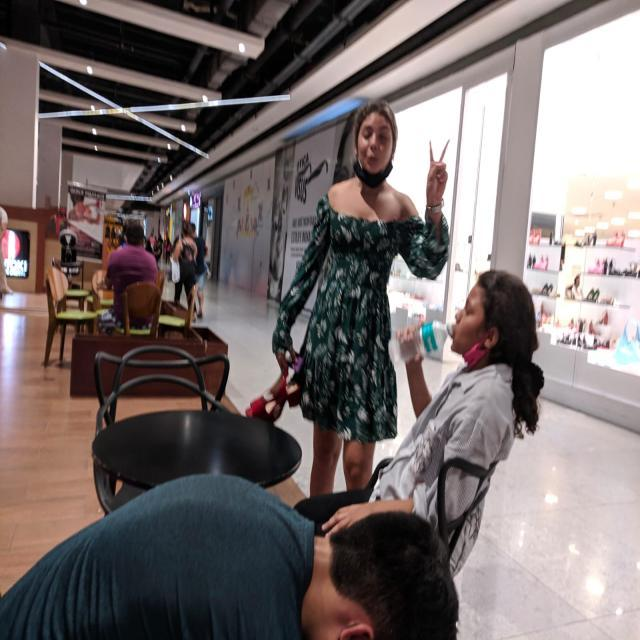em_pe: (273, 104, 449, 496)
sentado: (293, 271, 545, 578)
